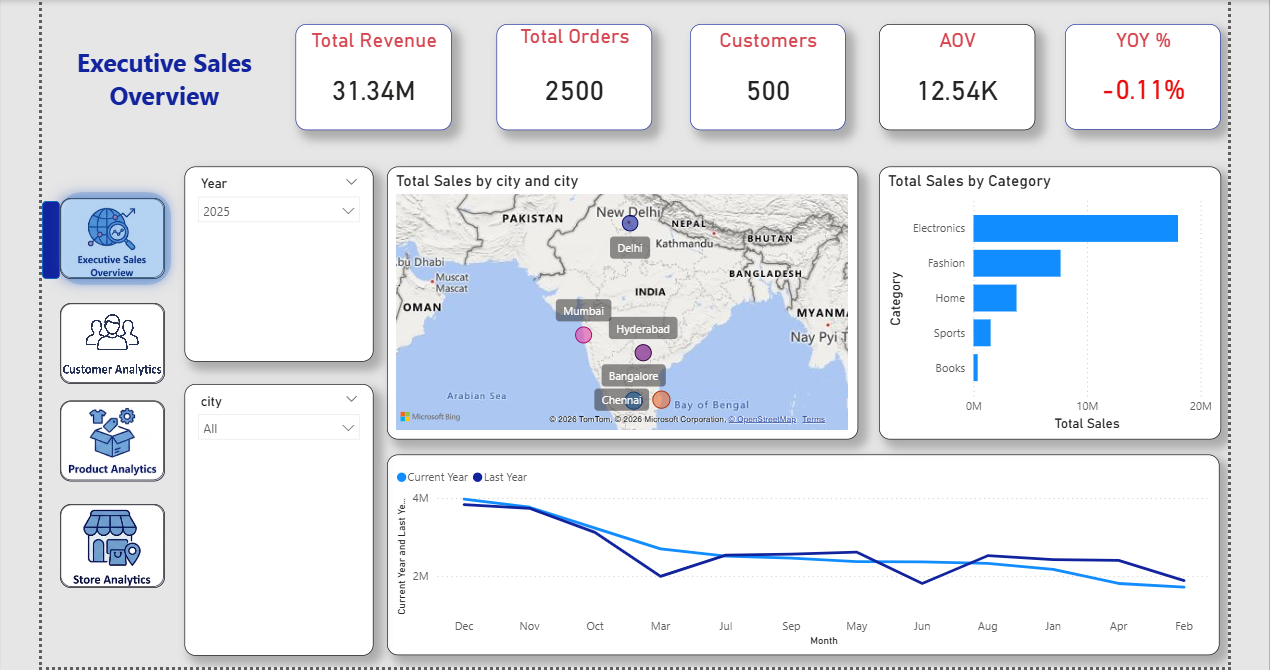

What the dashboard file says about the page in this screenshot:
{"tool":"powerbi","page":{"name":"Executive Sales Overview","canvas":[1280,720],"ordinal":0},"visuals":[{"type":"card","title":"Total Revenue","fields":{"Values":["Sum(sql_interview_db orders.total_amount)"]},"box":[456.6,285,260.7,129.5],"z":0},{"type":"card","title":"Total Orders","fields":{"Values":["CountNonNull(sql_interview_db orders.order_id)"]},"box":[490.6,25.9,168,115],"z":1000},{"type":"card","title":"Customers","fields":{"Values":["CountNonNull(sql_interview_db customers.customer_id)"]},"box":[699.5,25.9,168,115],"z":2000},{"type":"card","title":"AOV","fields":{"Values":["Avg(sql_interview_db orders.total_amount)"]},"box":[903.5,25.9,168.4,115],"z":3000},{"type":"card","title":"YOY %","fields":{"Values":["sql_interview_db orders.YOY%"]},"box":[1104.3,25.9,168,114],"z":4000},{"type":"slicer","fields":{"Values":["Calendar.Date.Variation.Date Hierarchy.Year"]},"box":[153.8,179.7,204,210.5],"z":5000},{"type":"lineChart","fields":{"Y":["sql_interview_db customers.Total Sales","sql_interview_db orders.Total Sales Prevyr"],"Category":["Calendar.Month"]},"box":[372.4,490.6,898.7,217],"z":6000},{"type":"clusteredBarChart","fields":{"Y":["sql_interview_db customers.Total Sales"],"Category":["sql_interview_db orders.primary_category"]},"box":[903.5,179.7,369.2,294.7],"z":7000},{"type":"map","fields":{"Category":["sql_interview_db customers.city"],"Size":["sql_interview_db customers.Total Sales"],"Series":["sql_interview_db customers.city"]},"box":[372.4,179.7,508.4,294.7],"z":8000},{"type":"slicer","fields":{"Values":["sql_interview_db customers.city"]},"box":[153.8,414.5,204,293.1],"z":9000},{"type":"card","title":"Total Revenue","fields":{"Values":["Sum(sql_interview_db orders.total_amount)"]},"box":[273.6,25.9,168.4,115],"z":10000},{"type":"textbox","box":[30.8,8.1,202.4,150.6],"z":11000},{"type":"image","box":[19.4,213.7,113.3,87.4],"z":12000},{"type":"image","box":[19.4,327.1,113.3,87.4],"z":13000},{"type":"image","box":[19.4,432.3,113.3,87.4],"z":14000},{"type":"image","box":[19.4,544.1,113.3,90.7],"z":15000},{"type":"shape","box":[0,217,19.4,84.2],"z":16000},{"type":"shape","box":[9.7,199.2,137.6,116.6],"z":17000}]}

Visuals, with their boxes in screenshot pixels (x1, y1, x2, y2):
"Total Revenue" card: Rect(463, 262, 703, 381)
"Total Orders" card: Rect(494, 24, 649, 130)
"Customers" card: Rect(686, 24, 841, 130)
"AOV" card: Rect(874, 24, 1029, 130)
"YOY %" card: Rect(1058, 24, 1213, 129)
slicer - Calendar.Date.Variation.Date Hierarchy.Year: Rect(184, 165, 372, 359)
lineChart - sql_interview_db customers.Total Sales x sql_interview_db orders.Total Sales Prevyr: Rect(385, 451, 1212, 651)
clusteredBarChart - sql_interview_db customers.Total Sales x sql_interview_db orders.primary_category: Rect(874, 165, 1213, 436)
map - sql_interview_db customers.city x sql_interview_db customers.Total Sales: Rect(385, 165, 853, 436)
slicer - sql_interview_db customers.city: Rect(184, 381, 372, 651)
"Total Revenue" card: Rect(295, 24, 449, 130)
textbox: Rect(71, 7, 257, 146)
image: Rect(61, 197, 165, 277)
image: Rect(61, 301, 165, 381)
image: Rect(61, 398, 165, 478)
image: Rect(61, 500, 165, 584)
shape: Rect(43, 200, 61, 277)
shape: Rect(52, 183, 178, 290)
